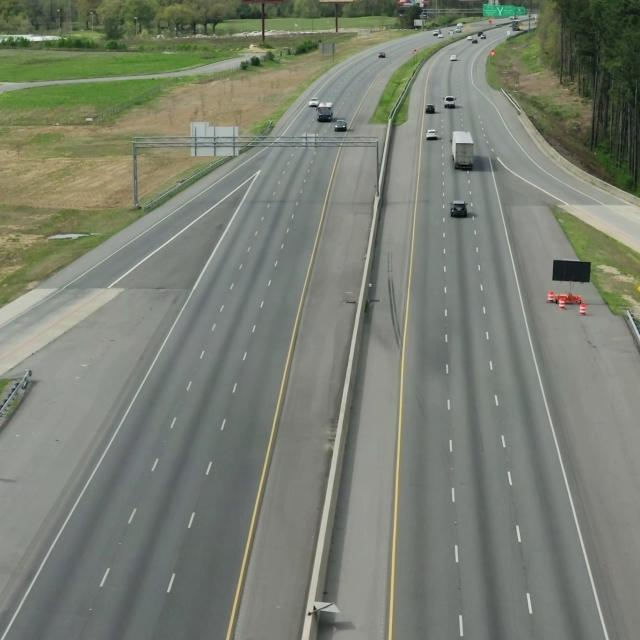Car: (447, 130, 478, 174), (448, 196, 471, 222)
